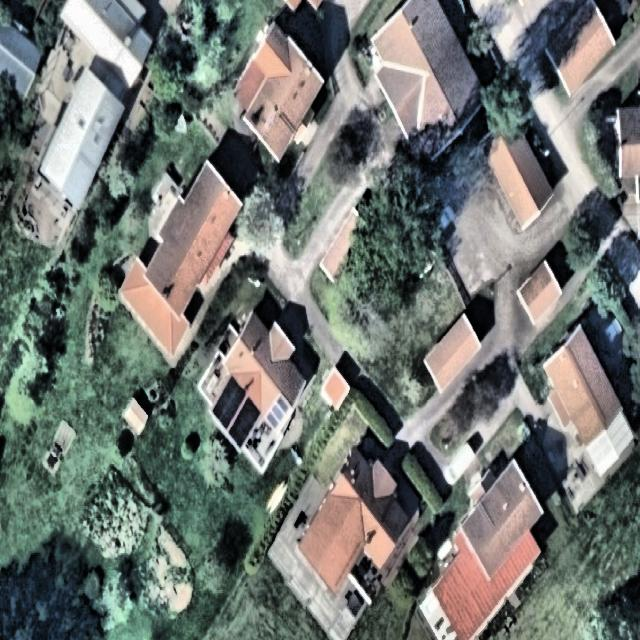roof_pv: (212, 373, 247, 429), (229, 395, 260, 447)
